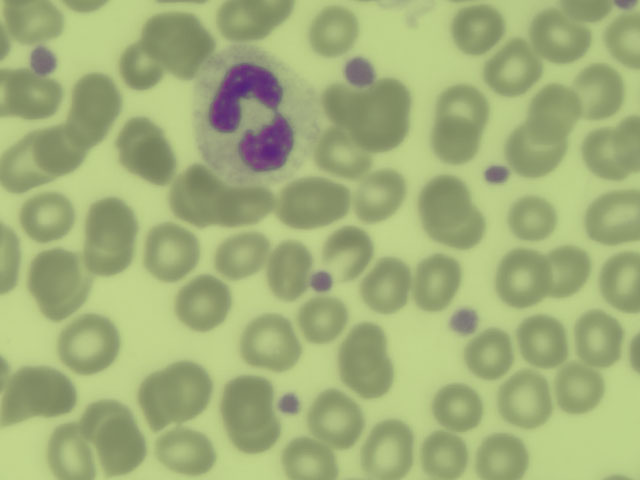Platelets: (344, 61, 376, 84), (31, 45, 57, 71), (454, 310, 479, 332), (484, 166, 511, 184), (313, 272, 334, 294), (280, 393, 300, 413)
RBC: (503, 121, 567, 177), (156, 427, 221, 476), (496, 250, 550, 306), (364, 424, 418, 480), (64, 317, 121, 370), (148, 222, 195, 283), (500, 371, 553, 425), (312, 394, 368, 445), (176, 279, 233, 329), (282, 186, 346, 229), (244, 316, 294, 370), (417, 255, 465, 310), (427, 121, 484, 167), (30, 366, 80, 417), (416, 179, 473, 223), (435, 85, 492, 129), (463, 326, 511, 378), (351, 109, 410, 151), (489, 41, 537, 92), (454, 7, 507, 53), (46, 426, 91, 480), (480, 434, 532, 480), (317, 134, 372, 177), (602, 253, 640, 315), (543, 248, 592, 296), (535, 13, 586, 59), (579, 313, 623, 366), (586, 197, 640, 240), (165, 364, 213, 412), (43, 273, 92, 320), (24, 196, 76, 240), (586, 126, 628, 180), (36, 131, 84, 178), (363, 262, 410, 310), (283, 439, 338, 480), (531, 87, 577, 136), (168, 178, 213, 228), (573, 65, 616, 117), (89, 197, 137, 243), (224, 378, 272, 424), (519, 317, 565, 365), (72, 70, 119, 116), (221, 234, 268, 280), (99, 426, 146, 472), (558, 365, 605, 411), (363, 171, 404, 223), (119, 43, 167, 87), (332, 228, 373, 279), (84, 400, 132, 443), (422, 434, 467, 479), (434, 383, 478, 429), (20, 76, 65, 120), (29, 252, 77, 293), (346, 362, 398, 399), (19, 133, 59, 181), (232, 412, 281, 451), (81, 237, 134, 273), (272, 245, 308, 298), (225, 186, 275, 224), (189, 167, 229, 213), (9, 1, 60, 37), (606, 18, 640, 72), (444, 207, 489, 247), (63, 110, 112, 146), (322, 83, 365, 124), (346, 327, 390, 367), (301, 302, 347, 340), (313, 9, 353, 52), (211, 1, 260, 36), (138, 378, 176, 422), (513, 197, 554, 236), (140, 137, 177, 180), (4, 375, 42, 416), (170, 36, 212, 72), (368, 79, 412, 113), (122, 124, 162, 161), (150, 18, 195, 50), (249, 1, 299, 29), (2, 226, 20, 302), (1, 149, 30, 193), (613, 120, 640, 166), (1, 71, 26, 116)
WBC: (204, 48, 318, 180)
